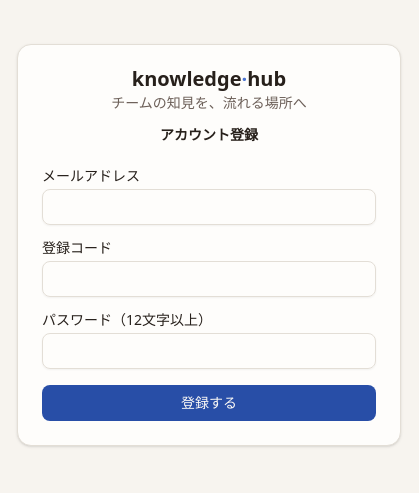
Test: ClaimPage › 失敗時はサーバーのメッセージを role=alert で表示する
Step 1. Type "a@example.com" into the field labelled "メールアドレス" → (209,207), box [42,189,376,225]
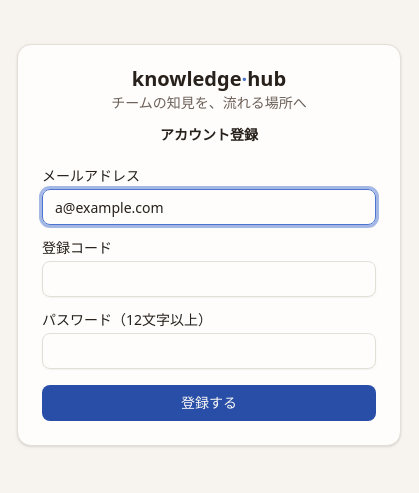
Step 2. Type "WRONG" into the field labelled "登録コード" → (209,279), box [42,261,376,297]
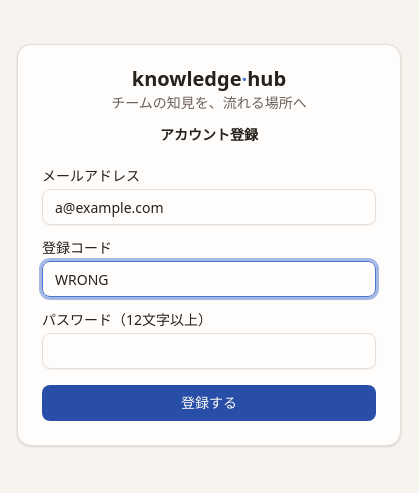
Step 3. Type "my-password-123" into the password field labelled "パスワード（12文字以上）" → (209,351), box [42,333,376,369]
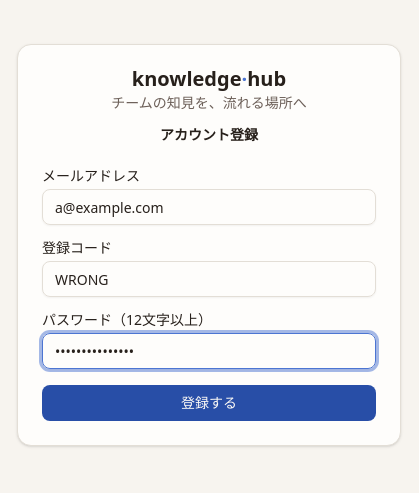
Step 4. Click the button "登録する" → (209,403), box [42,385,376,421]
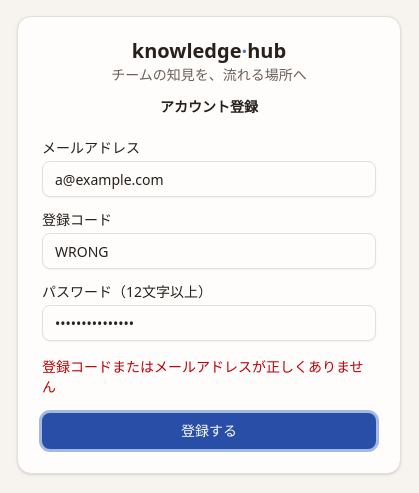
Result: the message reads "登録コードまたはメールアドレスが正しくありません" at [42,357,364,396]
